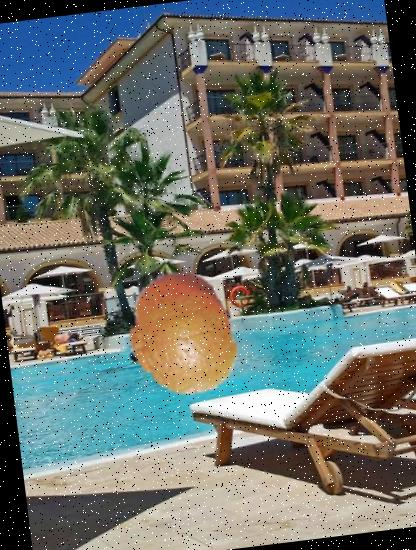Mandarine: (110, 263, 252, 405)
